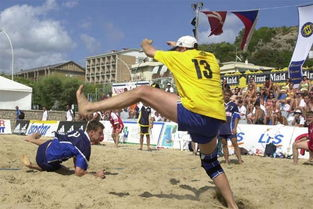10+: (13, 32, 313, 209)
down: (16, 116, 111, 180)
